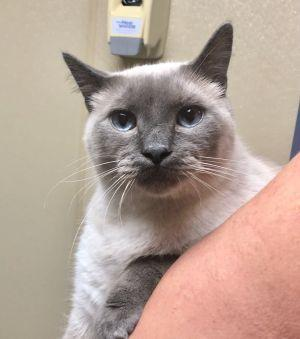siamese: (62, 21, 248, 213)
